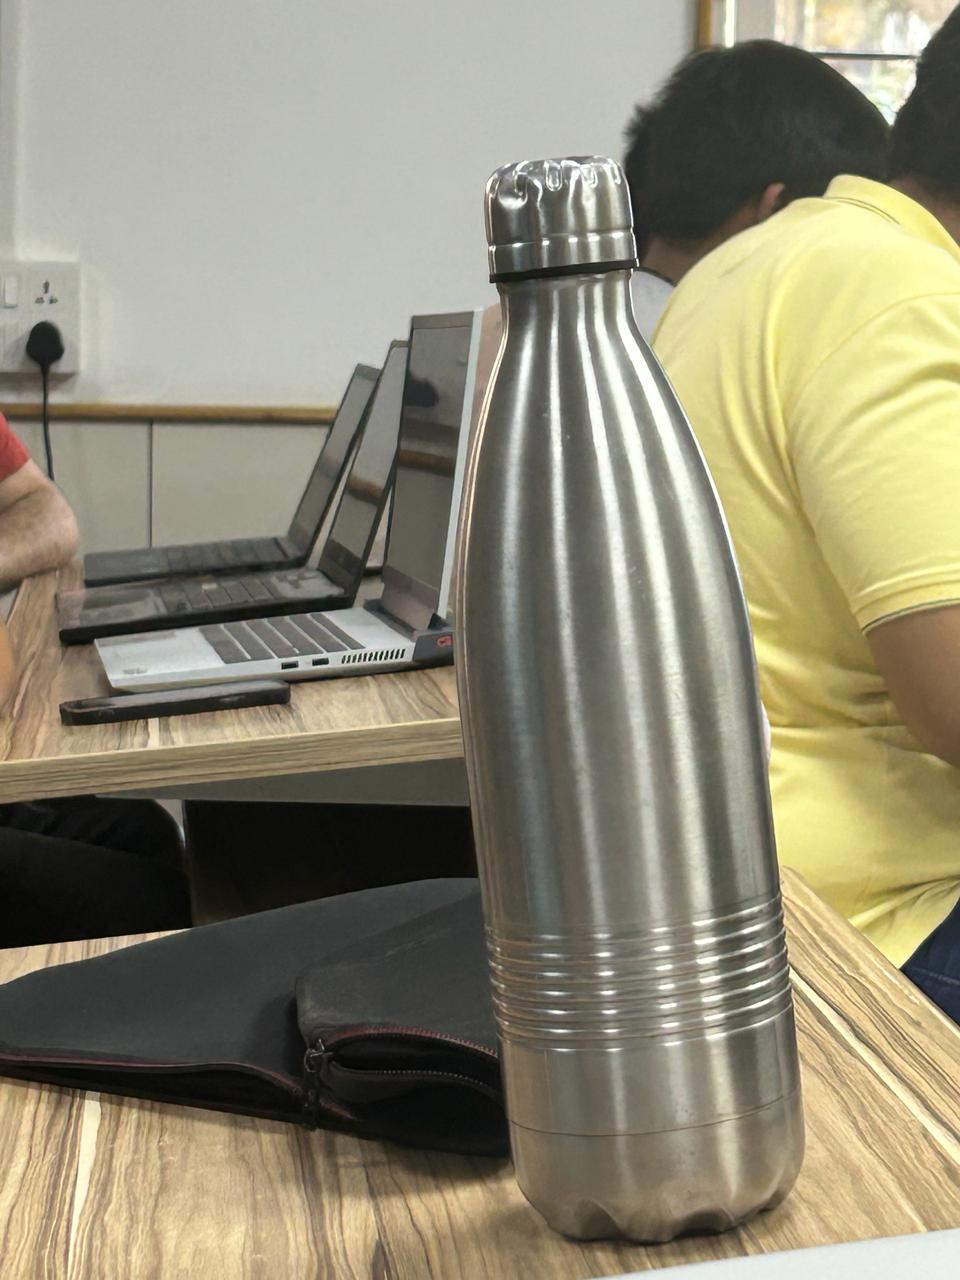bottle: (437, 150, 844, 1259)
